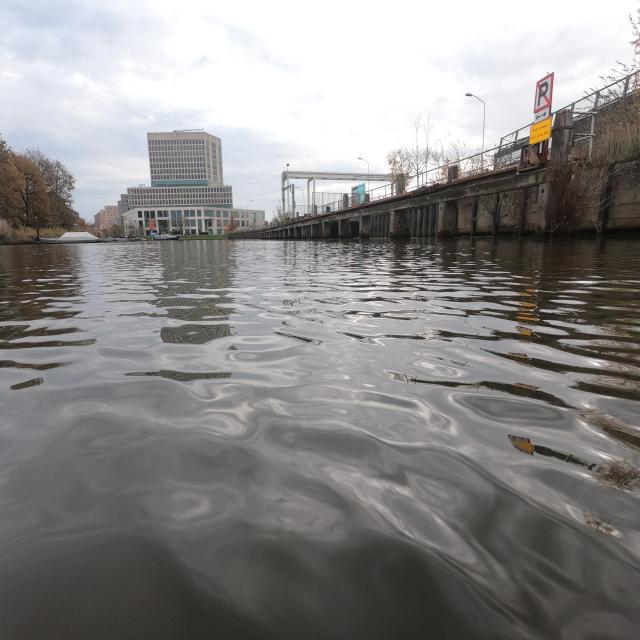boat: (52, 232, 94, 246)
reed: (0, 218, 35, 245), (41, 228, 61, 237)
sky: (10, 4, 632, 202)
tree: (0, 139, 77, 229)
wall: (230, 166, 548, 238), (550, 78, 638, 232)
water: (0, 236, 640, 640)
